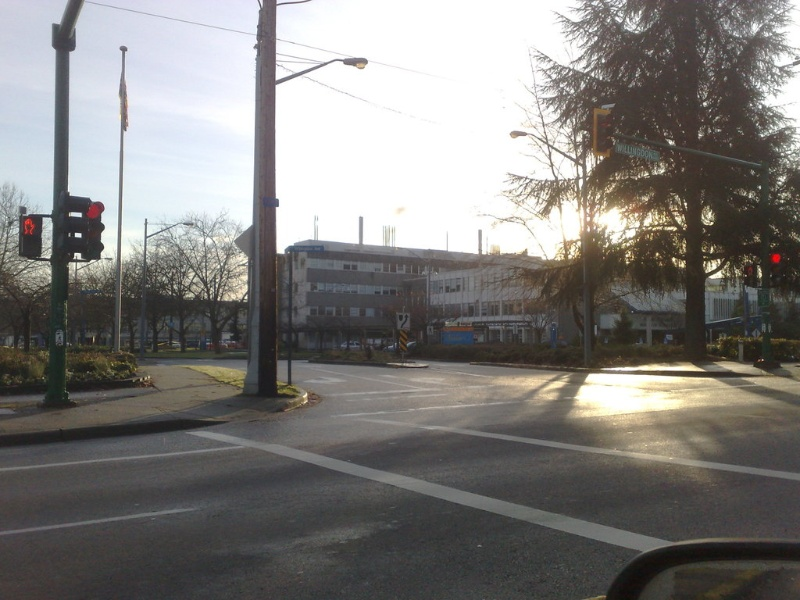red_light: (83, 196, 108, 221), (766, 245, 787, 266)
